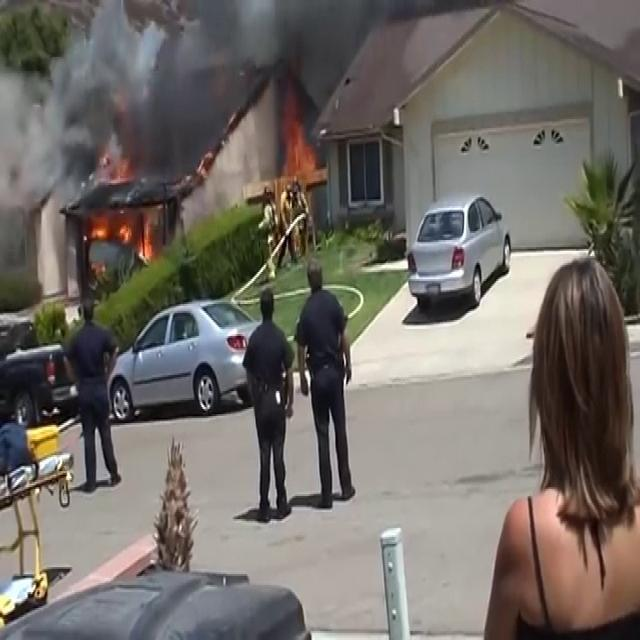Fire: (270, 105, 324, 199)
Smoke: (0, 0, 345, 174)
